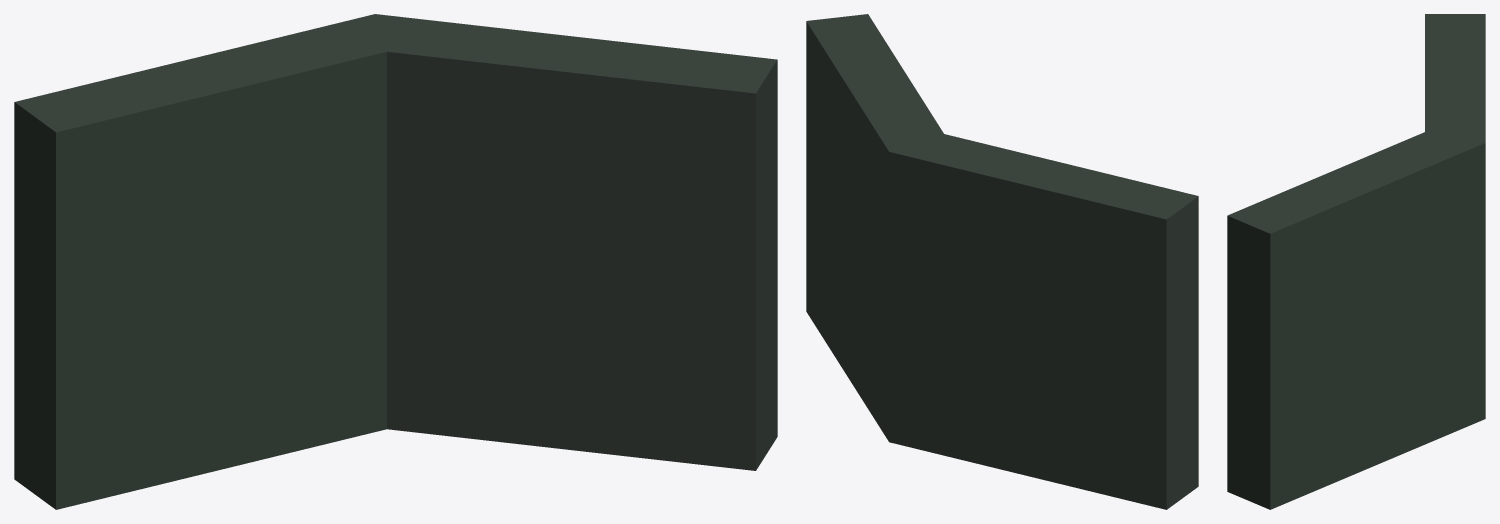
File: SM_WallFlat_Corner45.fbx
3 views of the same model, side by side, from view 1: azimuth 30°, elevation 25°; view 2: azimuth 150°, elevation 25°; view 3: azimuth 270°, elevation 25° (orthographic). The views are drawn at different scales.
Visible parts, largest first — view 1: SM_WallFlat_Corner45; view 2: SM_WallFlat_Corner45; view 3: SM_WallFlat_Corner45.
Boxes of the visible parts, box(x1,y1,x2,y2) form: SM_WallFlat_Corner45: box(14, 14, 777, 509); SM_WallFlat_Corner45: box(806, 14, 1198, 509); SM_WallFlat_Corner45: box(1227, 14, 1485, 509).
Size of the model in its own units: 854 by 500 by 424.
1 material, 1 textured.
